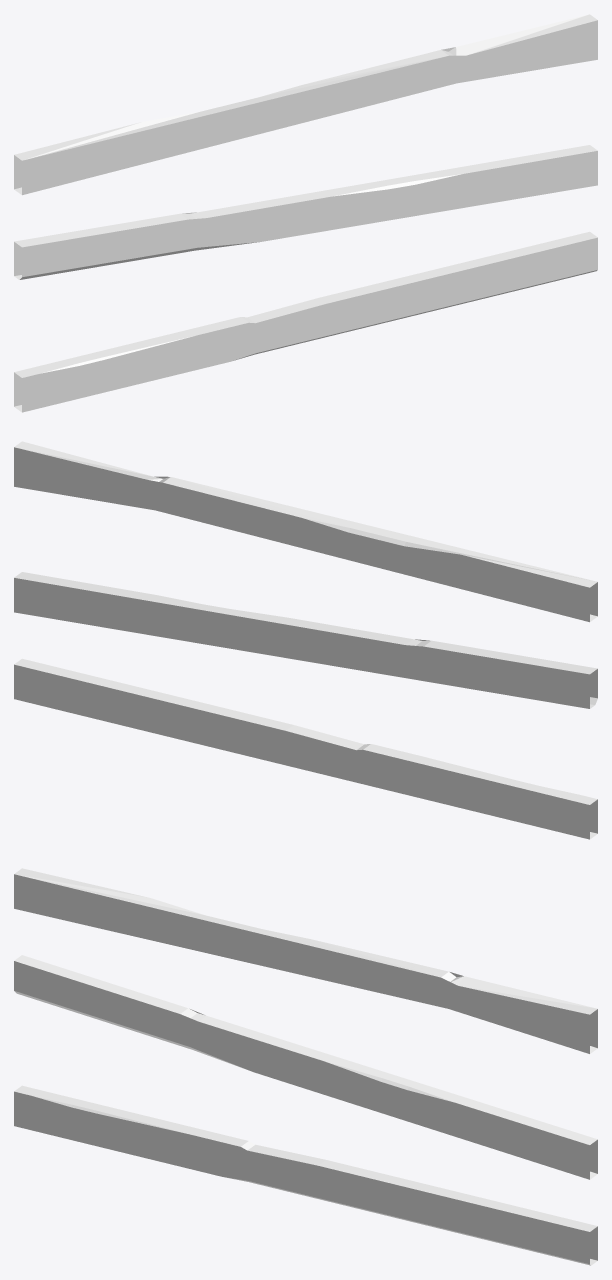
File: Bld_02_Fence_Wood_Worned_01.glb
3 views of the same model, one above another, from view 1: azimuth 30°, elevation 25°; view 2: azimuth 150°, elevation 25°; view 3: azimuth 330°, elevation 25° (orthographic).
Visible parts, largest first — view 1: Bld_02_Fence_Wood_Worned_01; view 2: Bld_02_Fence_Wood_Worned_01; view 3: Bld_02_Fence_Wood_Worned_01.
Part boxes in pixels (x1=…): Bld_02_Fence_Wood_Worned_01: x1=14, y1=14, x2=597, y2=412; Bld_02_Fence_Wood_Worned_01: x1=14, y1=441, x2=597, y2=839; Bld_02_Fence_Wood_Worned_01: x1=14, y1=868, x2=597, y2=1265.
Bounding box in the file's own units: 2.44 × 1.03 × 0.0591.
1 material, 1 textured.
